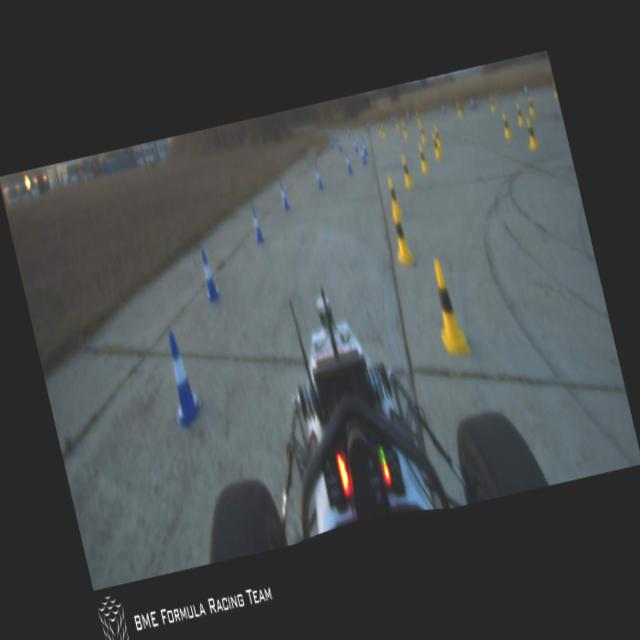blue_cone: (154, 324, 207, 430), (197, 248, 220, 303), (248, 206, 264, 243), (277, 179, 290, 211), (312, 164, 324, 189), (343, 150, 354, 174), (358, 142, 367, 164), (361, 138, 368, 156), (351, 134, 358, 152), (336, 136, 342, 152), (468, 95, 474, 108), (328, 136, 334, 148), (346, 126, 352, 138), (389, 112, 395, 124), (405, 108, 411, 120), (523, 83, 529, 95), (332, 131, 338, 141), (440, 100, 445, 112), (366, 118, 370, 130)
yellow_cone: (424, 256, 471, 358), (387, 207, 414, 267), (384, 177, 404, 218), (522, 114, 540, 152), (398, 154, 414, 189), (416, 143, 429, 171), (429, 131, 442, 159), (500, 112, 512, 140), (514, 102, 525, 127), (433, 127, 443, 149), (526, 95, 536, 116), (400, 118, 409, 138), (487, 92, 496, 112), (418, 124, 427, 143), (454, 100, 462, 118), (551, 79, 558, 98), (414, 109, 422, 125), (393, 116, 400, 132), (379, 122, 386, 136), (376, 121, 382, 135)
